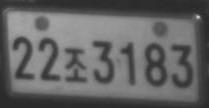1: (118, 41, 139, 86)
2: (11, 36, 35, 80), (38, 37, 62, 81)
3: (171, 44, 193, 88), (92, 40, 114, 83)
8: (144, 43, 167, 87)
조: (64, 47, 87, 82)
